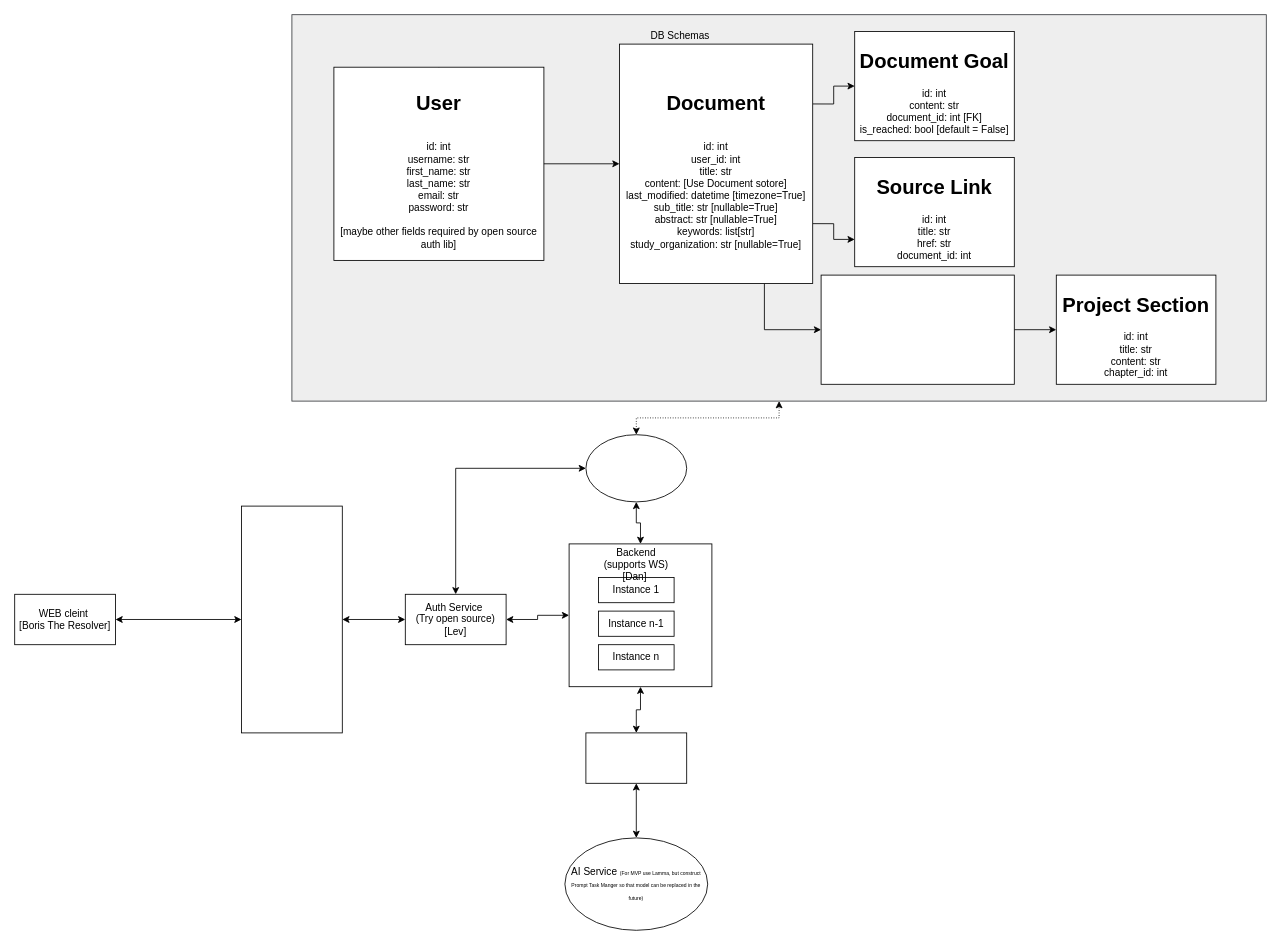
The diagram is 1281 pixels wide and 945 high, and some of its shapes have lost their labels. Here are the shapes that lost their labels. From the top down, the box of each, then its label:
(820, 274, 1014, 384): Document Chapter id: int title: str documnet_id: int
(585, 434, 687, 502): SQL DataBase (PostgresQL, alembic) [Timur]
(241, 505, 342, 733): Load Balancer (Nginx) [Dima/Dan]
(585, 732, 687, 783): AI Manager (Own service) [Dima]
